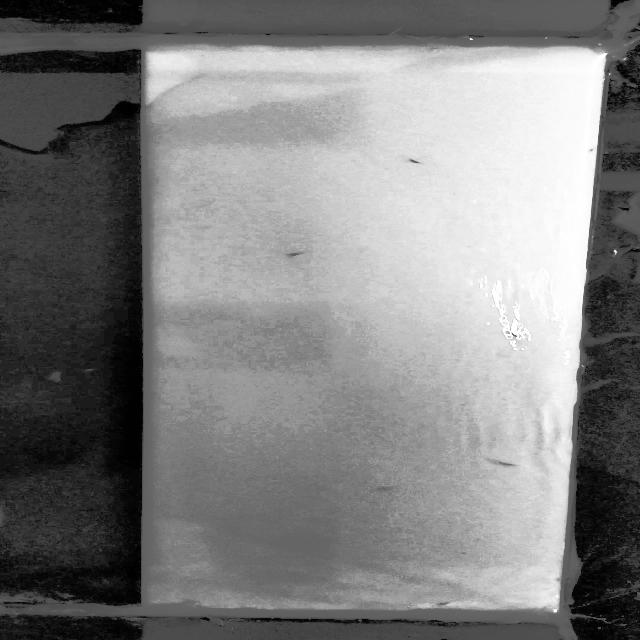shrimp: (425, 591, 478, 612), (487, 456, 520, 474), (368, 480, 394, 498), (400, 152, 426, 170), (288, 245, 316, 261)
